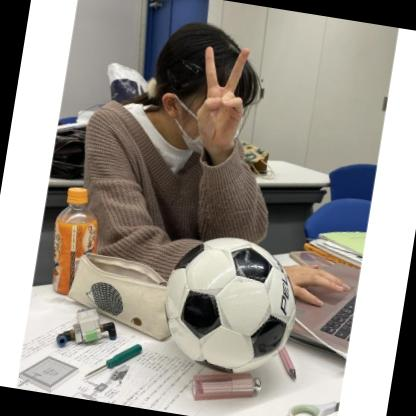ball: (155, 230, 304, 383)
